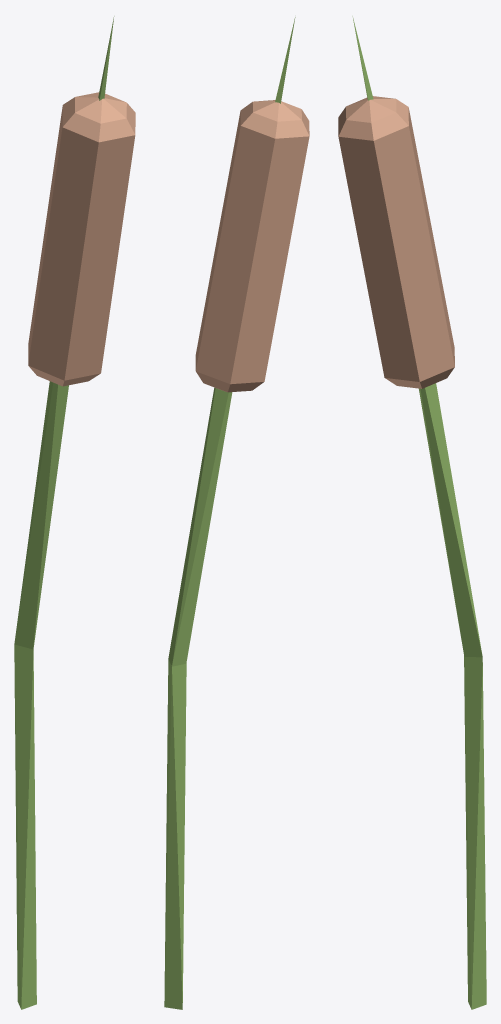
The model's file is Prop_Cattail_1.gltf.
The picture shows the model from 3 angles, left to right: view 1: azimuth 90°, elevation 25°; view 2: azimuth 150°, elevation 25°; view 3: azimuth 330°, elevation 25°; orthographic projection. The views are drawn at different scales.
Visible parts, largest first — view 1: object4, object1, object2, object3; view 2: object4, object1, object2; view 3: object4, object1, object2.
Part boxes in pixels (bbox=[...]): object4: bbox=[28, 92, 135, 386]; object1: bbox=[14, 644, 36, 1009]; object2: bbox=[14, 381, 68, 649]; object3: bbox=[98, 16, 114, 100]; object4: bbox=[195, 100, 309, 392]; object1: bbox=[164, 659, 186, 1009]; object2: bbox=[168, 387, 232, 666]; object4: bbox=[338, 96, 454, 388]; object1: bbox=[464, 656, 486, 1009]; object2: bbox=[419, 383, 482, 657].
Bounding box in the file's own units: 0.0816 × 0.7053 × 0.0752.
